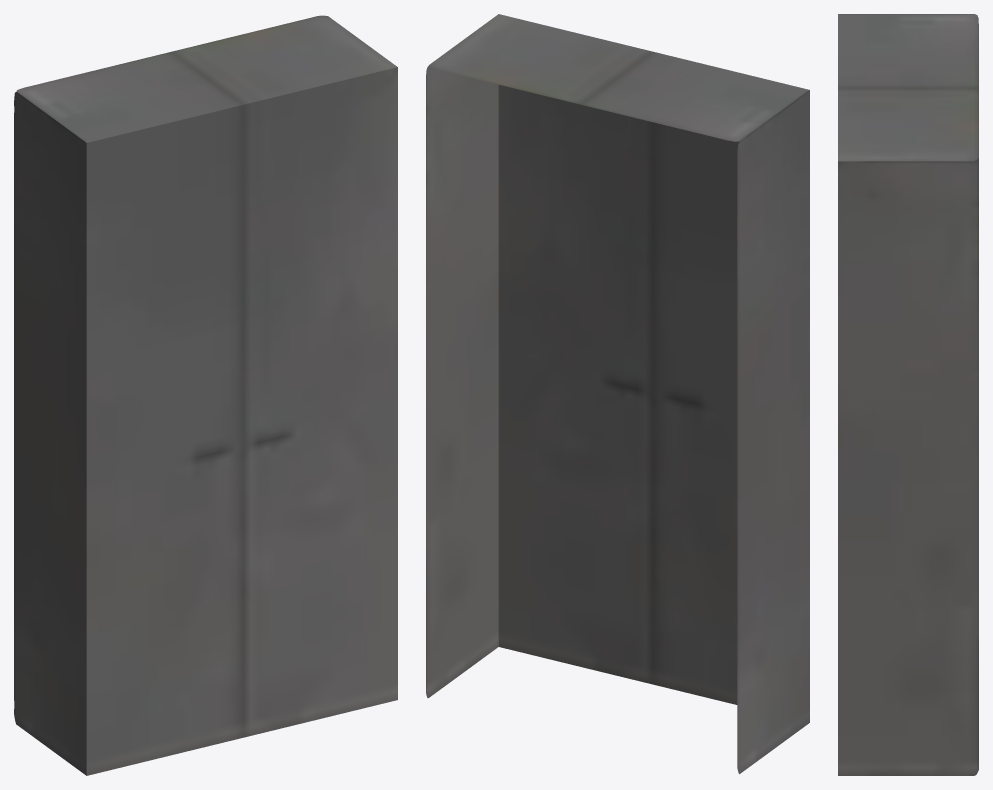
The model's file is office-cupboard--1.gltf.
3 views of the same model, side by side, from view 1: azimuth 30°, elevation 25°; view 2: azimuth 150°, elevation 25°; view 3: azimuth 270°, elevation 25° (orthographic). The views are drawn at different scales.
Visible parts, largest first — view 1: Closed_cabinet_Big; view 2: Closed_cabinet_Big; view 3: Closed_cabinet_Big.
Boxes of the visible parts, x1,y1,x2,y2 form: Closed_cabinet_Big: [14, 15, 397, 775]; Closed_cabinet_Big: [426, 14, 809, 774]; Closed_cabinet_Big: [838, 14, 978, 775].
Bounding box in the file's own units: 1.1 × 2.14 × 0.4444.
1 material, 1 textured.
